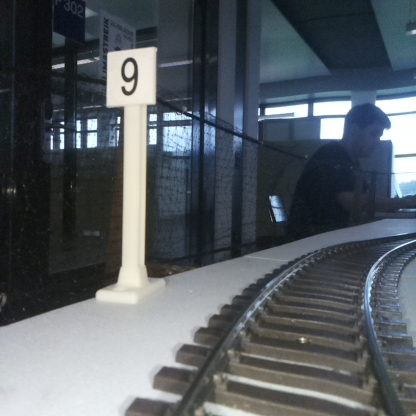white-info-9: (106, 46, 155, 296)
